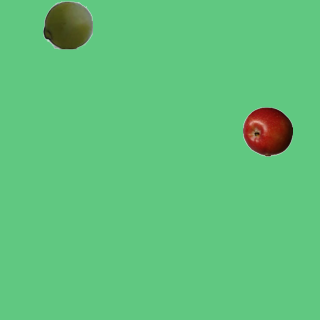Apple Braeburn: (242, 106, 292, 156)
Grape White 4: (42, 0, 92, 49)
